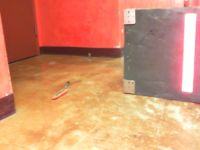switch: (181, 13, 197, 94)
